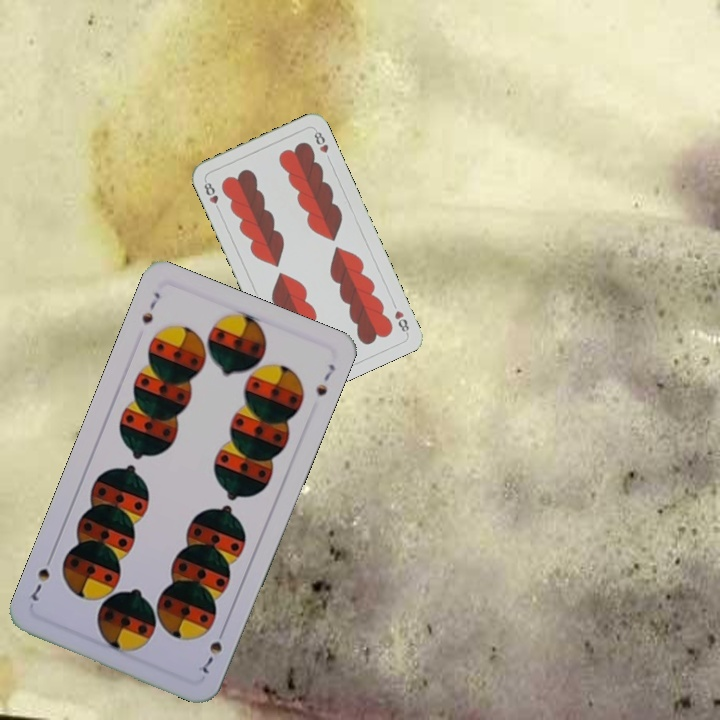H8: (200, 176, 223, 214), (390, 306, 412, 336)
S7: (198, 623, 228, 676), (137, 288, 163, 327)
